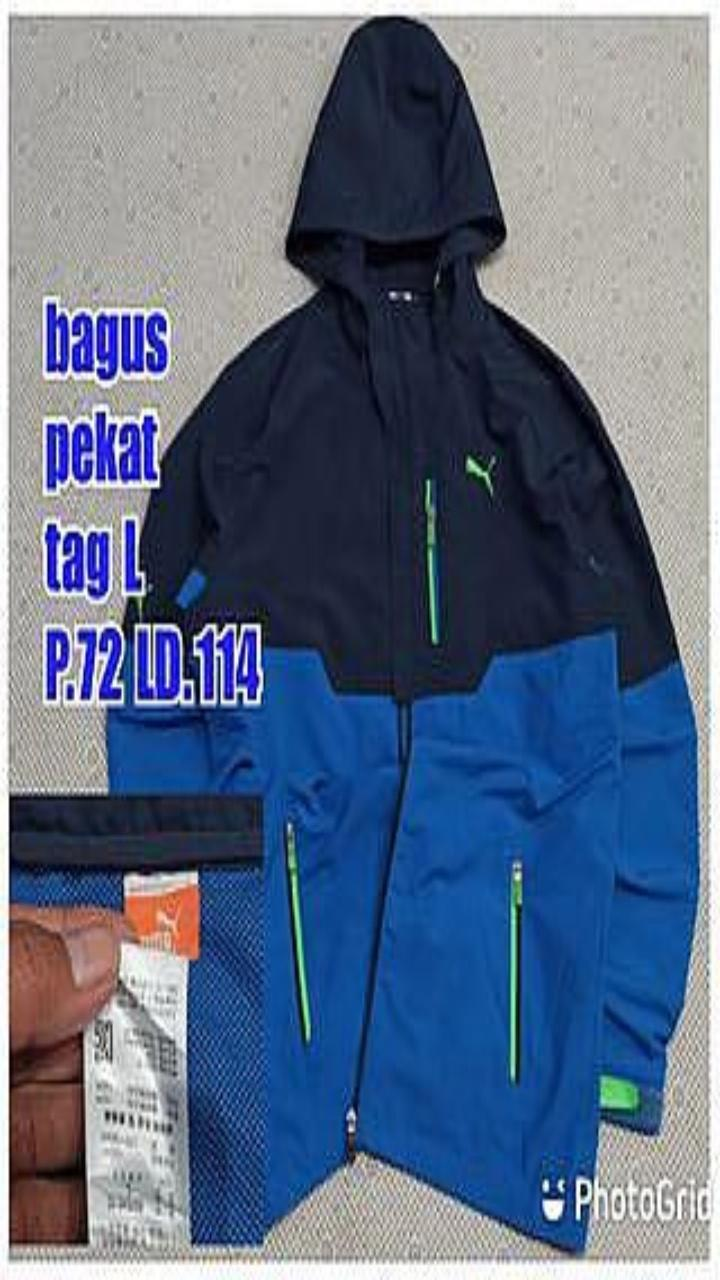Sports_Jacket: (108, 19, 696, 1248)
